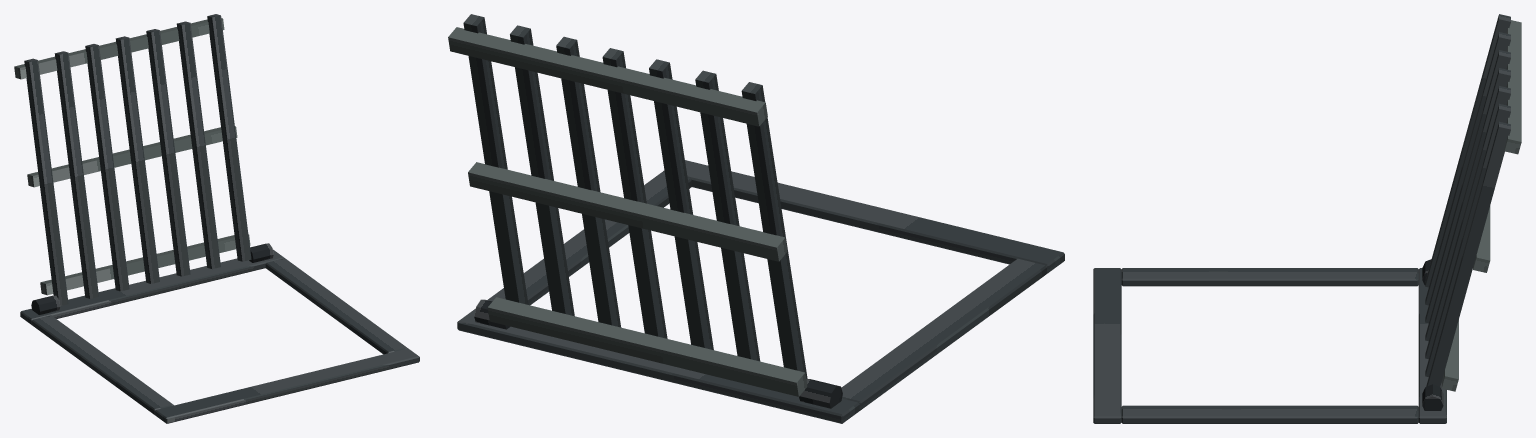
File: sewer_floor_grate.glb
The picture shows the model from 3 angles, left to right: view 1: azimuth 30°, elevation 25°; view 2: azimuth 150°, elevation 25°; view 3: azimuth 270°, elevation 25°; orthographic projection. The views are drawn at different scales.
Parts seen in each view (by area): view 1: FrameS, Bar4, Bar6, Bar1, Bar2, Bar3, Bar5, Bar0, FrameN, FrameW, FrameE, Cross2 (+3 smaller); view 2: Cross0, Cross1, FrameS, Cross2, FrameW, FrameN, Bar0, Bar3, Bar1, Bar2, Bar5, Bar4 (+3 smaller); view 3: FrameE, FrameW, FrameS, Bar6, Cross2, Bar0, Bar1, Bar2, Bar3, Bar5, Bar4, FrameN (+3 smaller).
Part boxes in pixels (x1,y1,x2,y2): FrameS: (155, 348, 419, 423); Bar4: (146, 29, 190, 276); Bar6: (207, 14, 251, 261); Bar1: (54, 51, 98, 298); Bar2: (85, 44, 129, 291); Bar3: (115, 36, 159, 283); Bar5: (176, 21, 220, 268); Bar0: (24, 58, 68, 305); FrameN: (20, 249, 284, 324); FrameW: (32, 315, 173, 414); FrameE: (265, 258, 407, 354); Cross2: (14, 18, 224, 79); Cross0: (487, 297, 807, 396); Cross1: (468, 162, 787, 261); FrameS: (663, 160, 1064, 273); Cross2: (448, 27, 767, 126); FrameW: (841, 258, 1046, 410); FrameN: (457, 309, 859, 423); Bar0: (741, 82, 807, 378); Bar3: (602, 48, 667, 338); Bar1: (695, 70, 760, 361); Bar2: (649, 59, 713, 349); Bar5: (510, 25, 574, 316); Bar4: (556, 36, 621, 327); FrameE: (1121, 405, 1418, 423); FrameW: (1121, 268, 1418, 286); FrameS: (1093, 268, 1121, 423); Bar6: (1426, 121, 1510, 386); Cross2: (1504, 20, 1521, 154); Bar0: (1425, 14, 1510, 287); Bar1: (1425, 32, 1510, 305); Bar2: (1425, 50, 1510, 323); Bar3: (1425, 68, 1510, 341); Bar5: (1425, 103, 1510, 376); Bar4: (1425, 86, 1510, 358); FrameN: (1418, 268, 1446, 423).
Size of the model in its own units: 1 by 0.8715 by 1.21.
2 materials, 2 textured.
